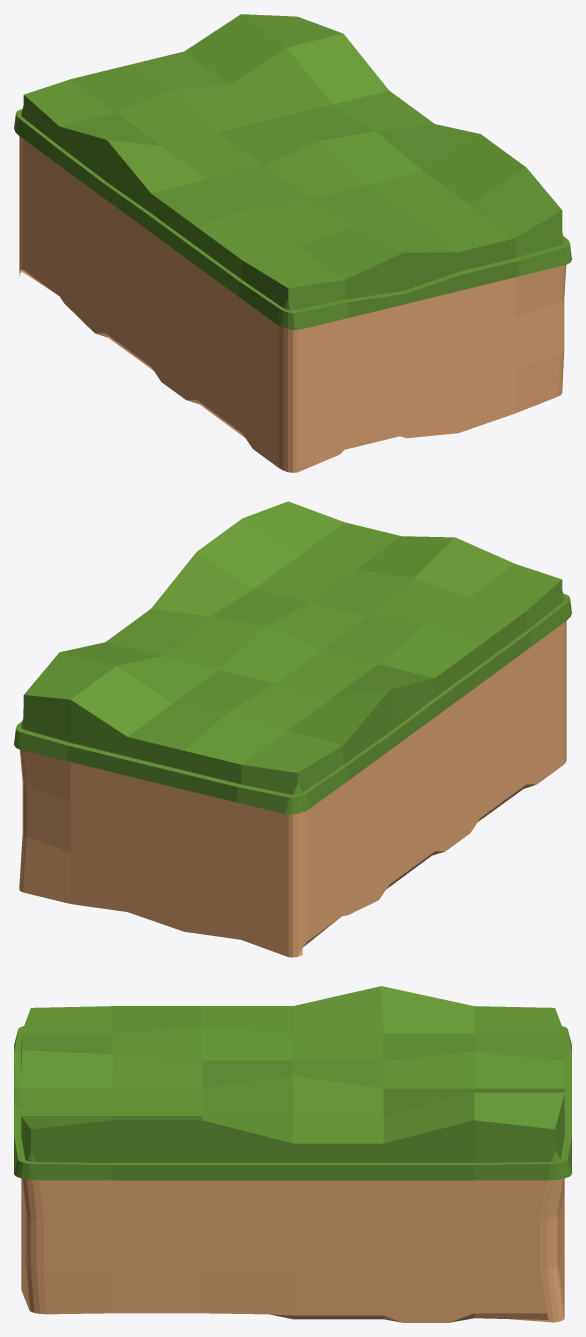
Rendered from sponge.fbx.
3 renders of one model, top to bottom at view 1: azimuth 30°, elevation 25°; view 2: azimuth 150°, elevation 25°; view 3: azimuth 270°, elevation 25°, orthographic.
Visible parts, largest first — view 1: Cube.009; view 2: Cube.009; view 3: Cube.009.
Part boxes in pixels (x1,y1,x2,y2): Cube.009: (14,14,571,472); Cube.009: (14,501,571,957); Cube.009: (14,986,571,1322).
Size of the model in its own units: 0.0384 by 0.0257 by 0.0641.
